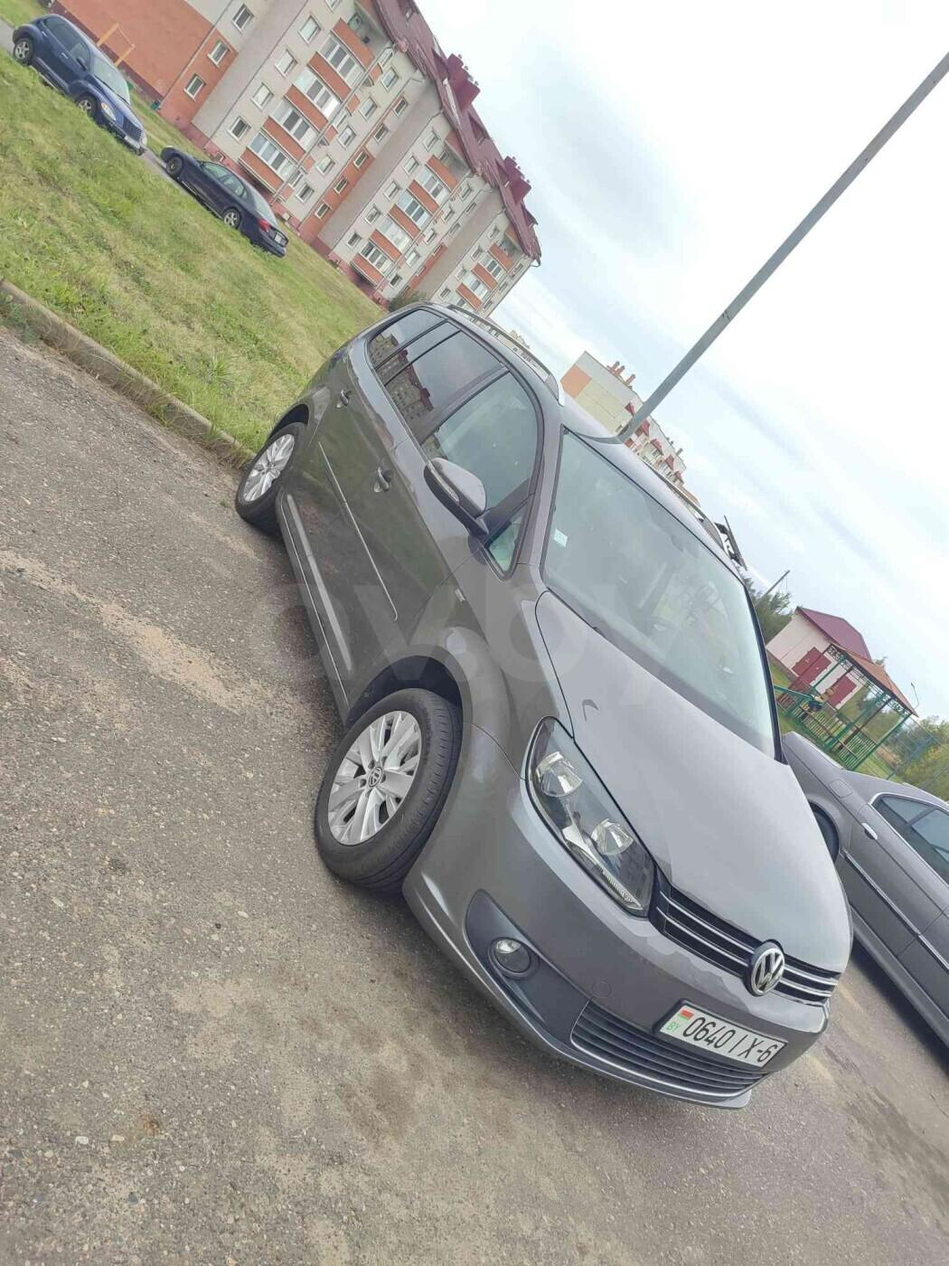Touran_2010-2015: (235, 293, 857, 1134)
